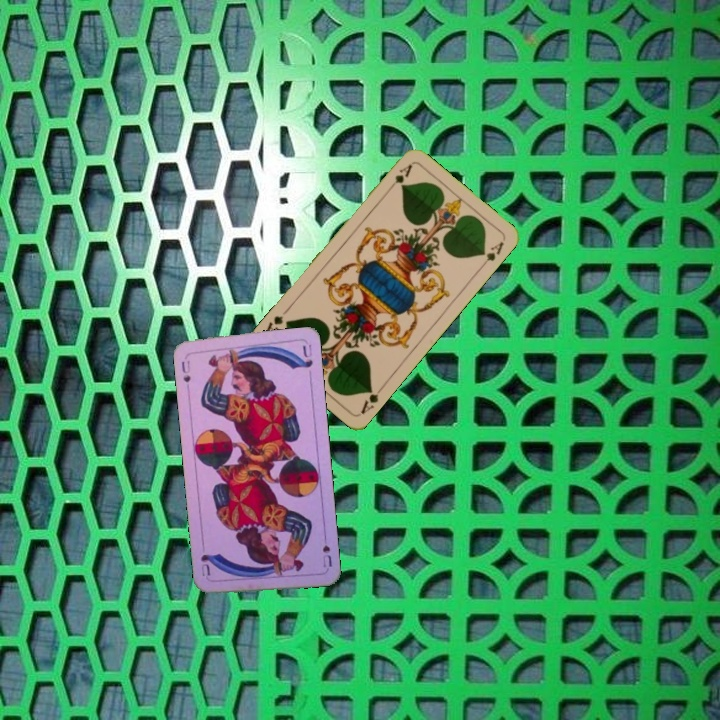GA: (356, 382, 386, 417), (384, 160, 415, 193)
SU: (318, 529, 334, 570), (177, 357, 193, 385)
